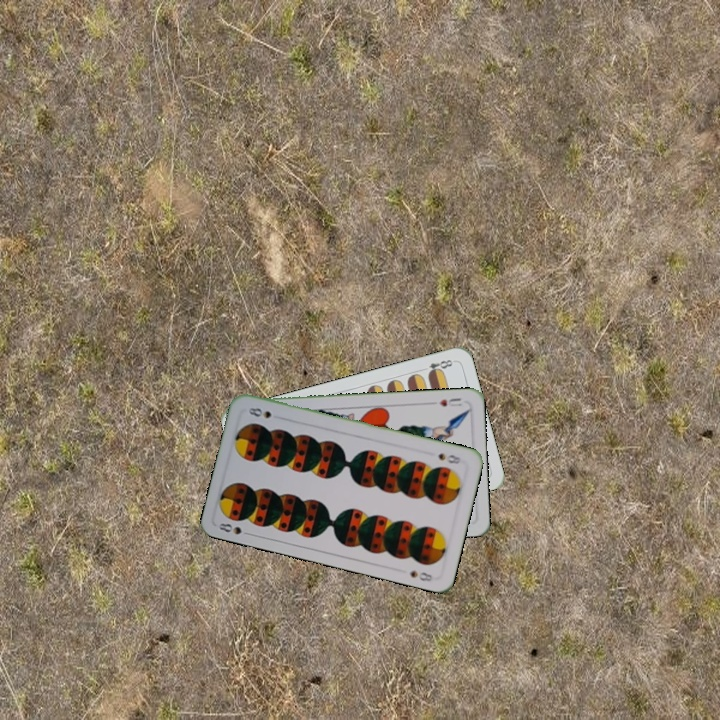E8: (424, 355, 457, 378)
HU: (435, 394, 464, 409)
S8: (214, 519, 255, 538), (434, 449, 463, 467)
